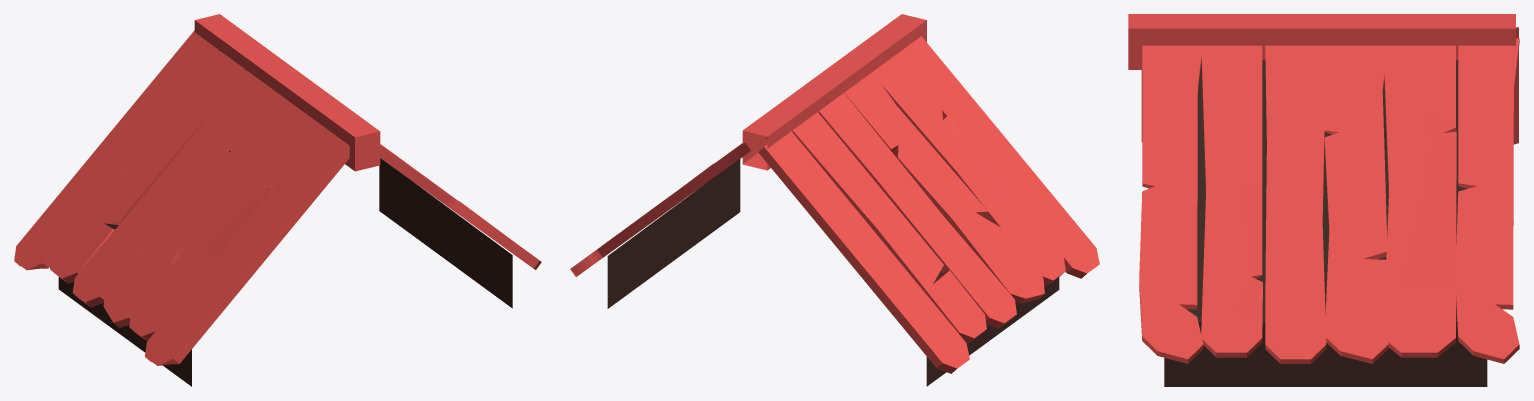
The model's file is Building_Roof_002.glb.
The picture shows the model from 3 angles, left to right: view 1: azimuth 30°, elevation 25°; view 2: azimuth 150°, elevation 25°; view 3: azimuth 270°, elevation 25°; orthographic projection. The views are drawn at different scales.
Visible parts, largest first — view 1: Building_Roof_002; view 2: Building_Roof_002; view 3: Building_Roof_002.
Boxes of the visible parts, box(x1,y1,x2,y2) form: Building_Roof_002: box(14, 14, 541, 386); Building_Roof_002: box(570, 14, 1099, 386); Building_Roof_002: box(1128, 14, 1519, 386).
Bounding box in the file's own units: 7.89 × 4.34 × 5.68.
1 material, 1 textured.
